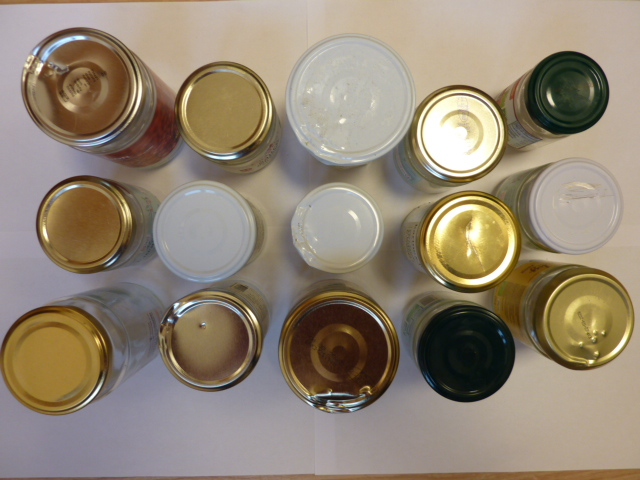damaged: (284, 32, 414, 165), (277, 290, 398, 413), (21, 26, 145, 145), (157, 291, 261, 393), (421, 190, 521, 292), (540, 269, 634, 372), (534, 156, 622, 254), (291, 182, 384, 272)
intact: (3, 308, 110, 414), (154, 181, 255, 282), (417, 302, 515, 402), (175, 62, 272, 160), (35, 176, 131, 274), (414, 83, 504, 180), (526, 49, 611, 135)
